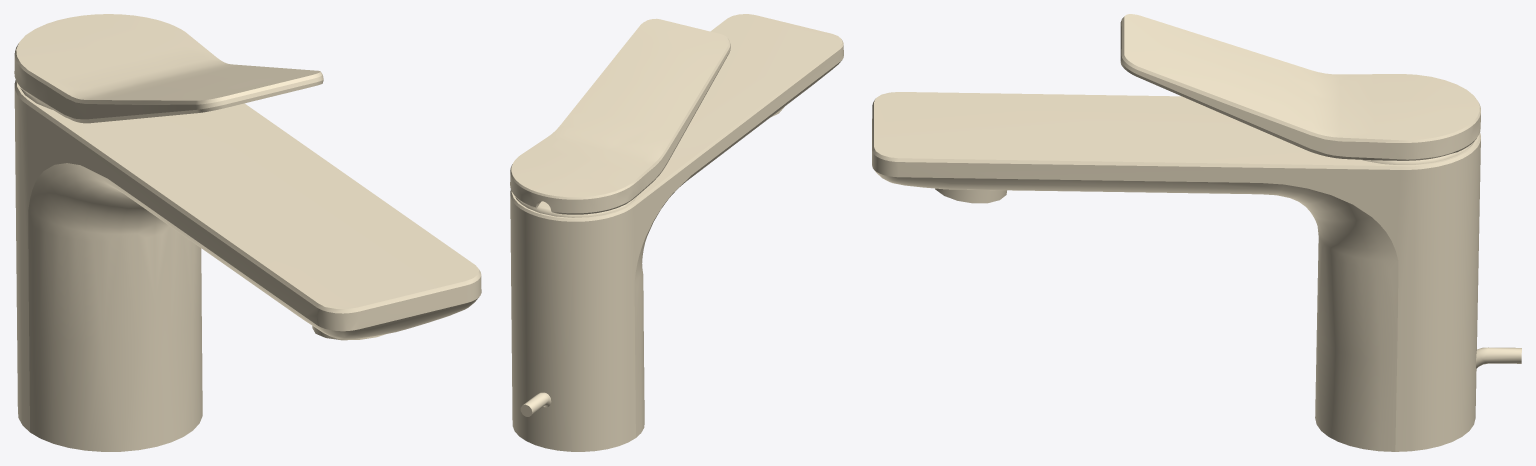
3 renders of one model, left to right at view 1: azimuth 30°, elevation 25°; view 2: azimuth 150°, elevation 25°; view 3: azimuth 270°, elevation 25°, orthographic. The views are drawn at different scales.
Parts seen in each view (by area): view 1: L_fdeae6de_0879_4853_8711_34a0d4e935b6_I5, L_a1148aaa_84d5_4d95_b440_838f23a0d012_I4; view 2: L_fdeae6de_0879_4853_8711_34a0d4e935b6_I5, L_a1148aaa_84d5_4d95_b440_838f23a0d012_I4, L_5095122a_4eaf_4164_8d06_55b332455c44_I3, L_242c2533_6809_4055_8021_e21e2bc8c005_I1; view 3: L_fdeae6de_0879_4853_8711_34a0d4e935b6_I5, L_a1148aaa_84d5_4d95_b440_838f23a0d012_I4, L_242c2533_6809_4055_8021_e21e2bc8c005_I1, L_38ccca43_db02_44fd_a178_109f803a8ab1_I2.
Boxes of the visible parts, x1,y1,x2,y2 form: L_fdeae6de_0879_4853_8711_34a0d4e935b6_I5: (14, 80, 481, 451); L_a1148aaa_84d5_4d95_b440_838f23a0d012_I4: (14, 14, 323, 123); L_fdeae6de_0879_4853_8711_34a0d4e935b6_I5: (510, 14, 843, 451); L_a1148aaa_84d5_4d95_b440_838f23a0d012_I4: (510, 18, 730, 214); L_5095122a_4eaf_4164_8d06_55b332455c44_I3: (515, 196, 636, 217); L_242c2533_6809_4055_8021_e21e2bc8c005_I1: (520, 392, 551, 416); L_fdeae6de_0879_4853_8711_34a0d4e935b6_I5: (872, 92, 1480, 451); L_a1148aaa_84d5_4d95_b440_838f23a0d012_I4: (1120, 14, 1480, 160); L_242c2533_6809_4055_8021_e21e2bc8c005_I1: (1476, 347, 1521, 368); L_38ccca43_db02_44fd_a178_109f803a8ab1_I2: (935, 188, 1006, 203).
Size of the model in its own units: 0.0485 by 0.1275 by 0.1964.
